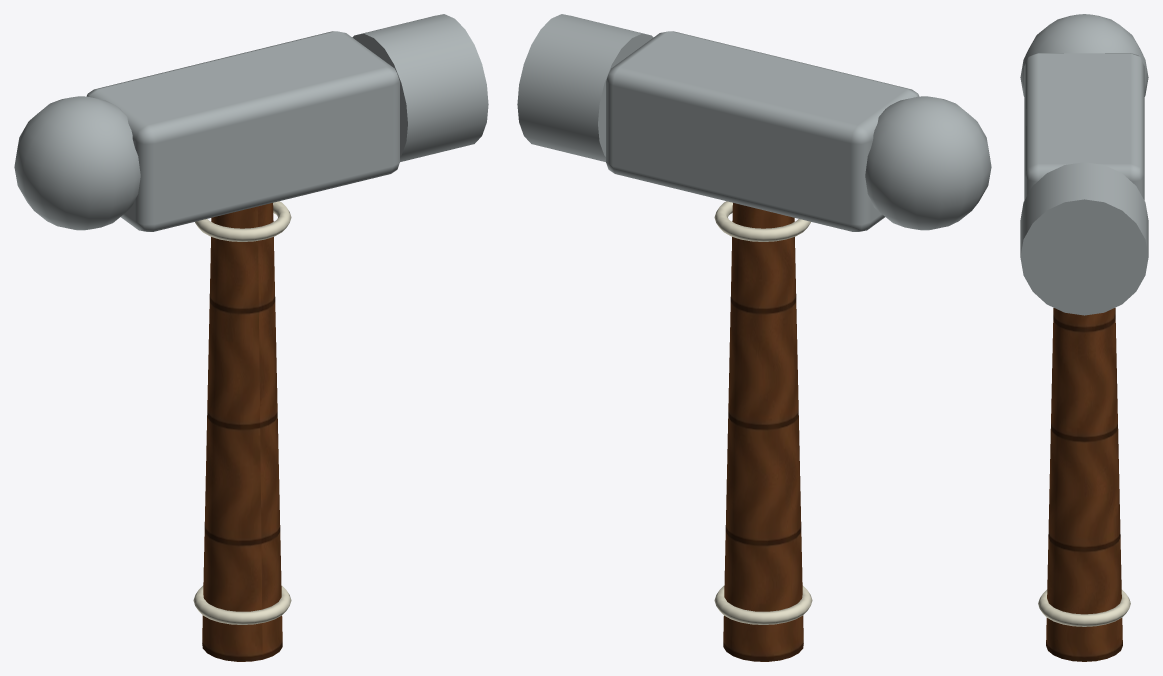
File: salvage-and-repair-workshop-ball-peen-hammer-cc57cd6c__25466.glb
The picture shows the model from 3 angles, left to right: view 1: azimuth 30°, elevation 25°; view 2: azimuth 150°, elevation 25°; view 3: azimuth 270°, elevation 25°; orthographic projection. The views are drawn at different scales.
Visible parts, largest first — view 1: ball-peen-hammer; view 2: ball-peen-hammer; view 3: ball-peen-hammer.
Boxes of the visible parts, <box> form: ball-peen-hammer: <box>14,14,488,661</box>; ball-peen-hammer: <box>517,14,991,661</box>; ball-peen-hammer: <box>1020,14,1148,661</box>.
Size of the model in its own units: 0.295 by 0.38 by 0.08.
3 materials, 1 textured.
